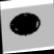correct: (6, 7, 47, 40)
